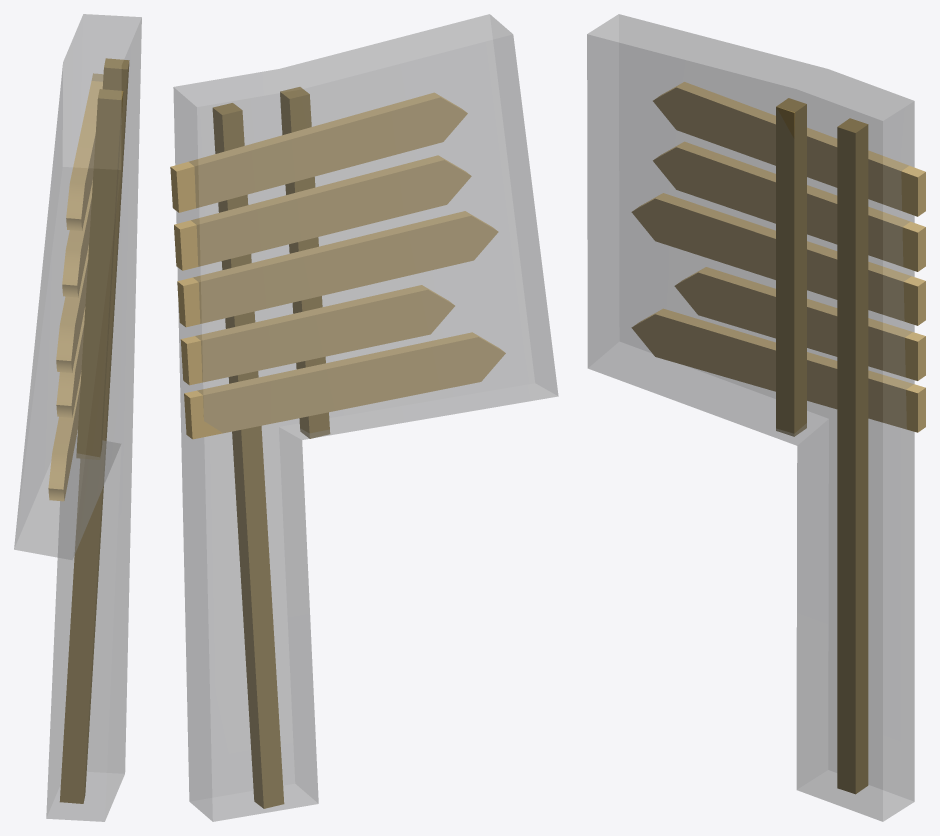
File: weapon_fence.fbx
3 views of the same model, side by side, from view 1: azimuth 30°, elevation 25°; view 2: azimuth 150°, elevation 25°; view 3: azimuth 270°, elevation 25° (orthographic). The views are drawn at different scales.
Visible parts, largest first — view 1: simple, weapon4fence; view 2: simple, weapon4fence; view 3: simple, weapon4fence.
Part boxes in pixels (<box>): simple: <box>14,14,141,821</box>; weapon4fence: <box>48,58,129,803</box>; simple: <box>173,14,558,821</box>; weapon4fence: <box>170,87,505,808</box>; simple: <box>587,14,914,821</box>; weapon4fence: <box>631,82,925,794</box>.
Bounding box in the file's own units: 1.09 × 2.96 × 1.27.
